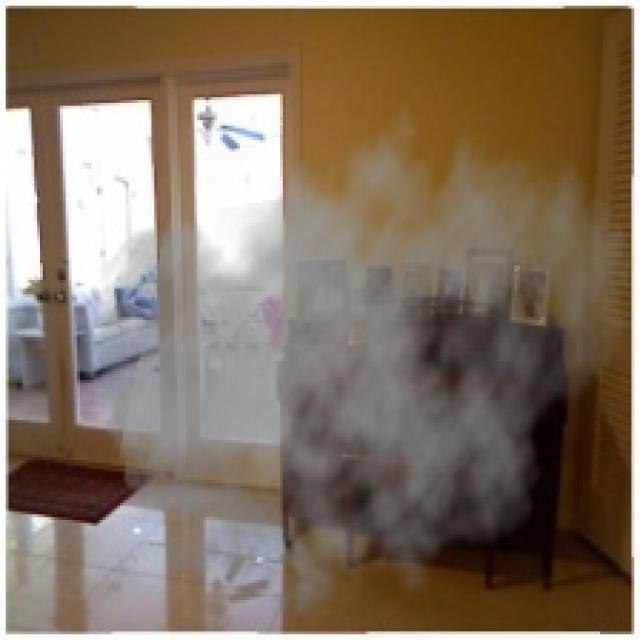Smoke: (80, 82, 634, 638)
